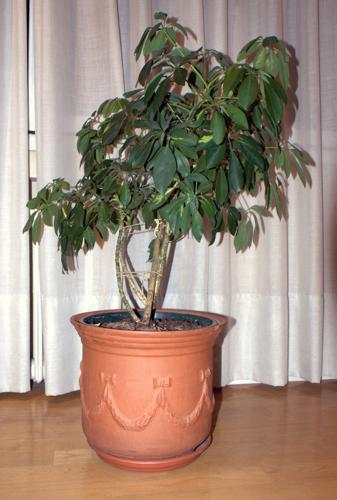Matera: (19, 13, 314, 473)
